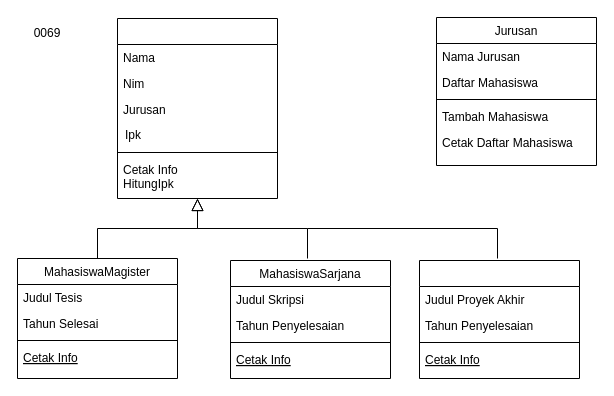
Image size: 614x396. Some labels were removed from this diagram. Each missing label, with the box of its shape:
Mahasiswa: (116, 18, 278, 198)
MahasiswaDiploma: (418, 260, 580, 378)
